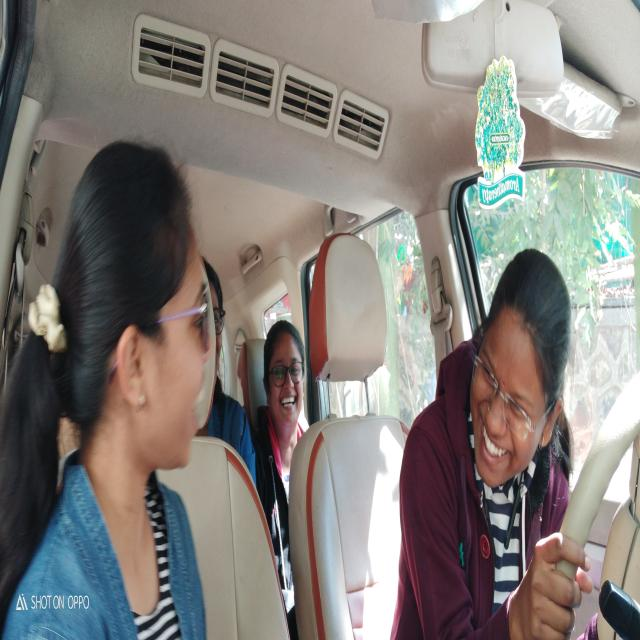LeftRight: (104, 170, 217, 486), (468, 267, 558, 483)
person: (264, 319, 308, 432), (214, 254, 227, 394)
talking: (474, 431, 514, 469), (193, 378, 207, 427)
